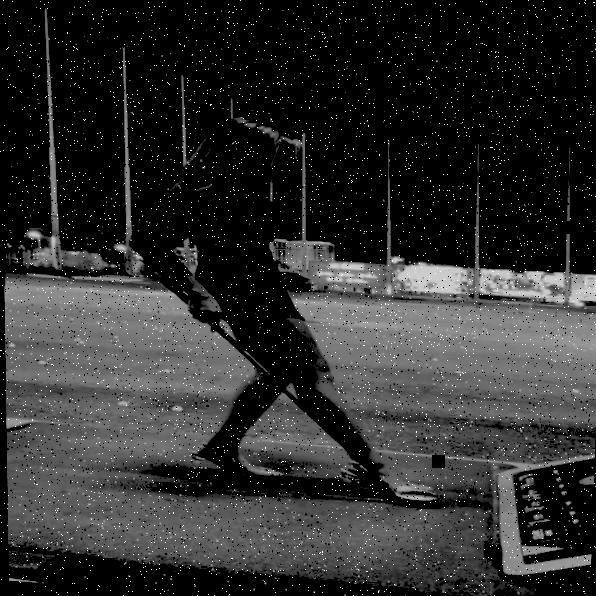ClubHead: (382, 478, 429, 500)
